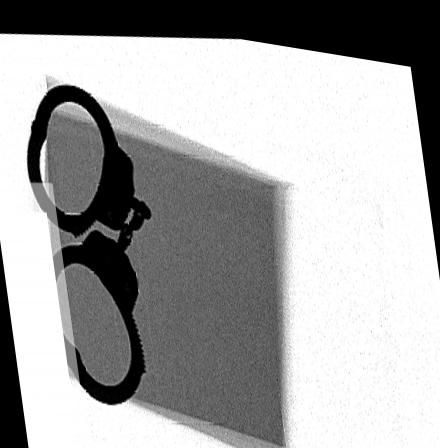HandCuffs: (26, 82, 152, 400)
